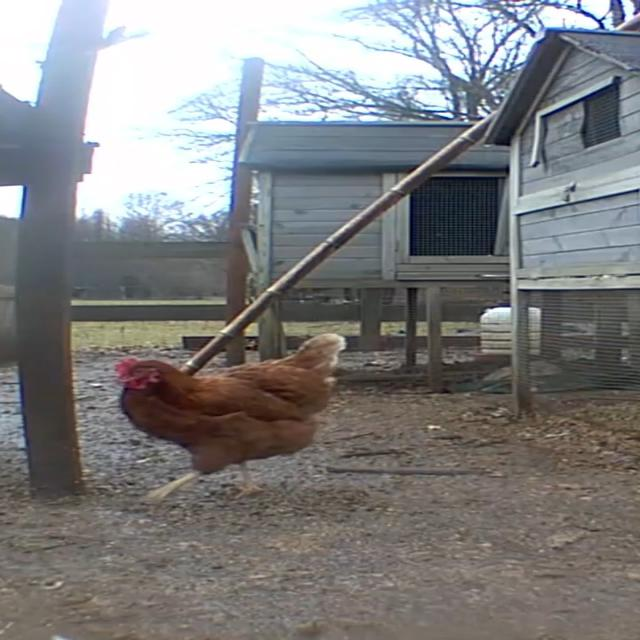walking: (95, 315, 370, 503)
